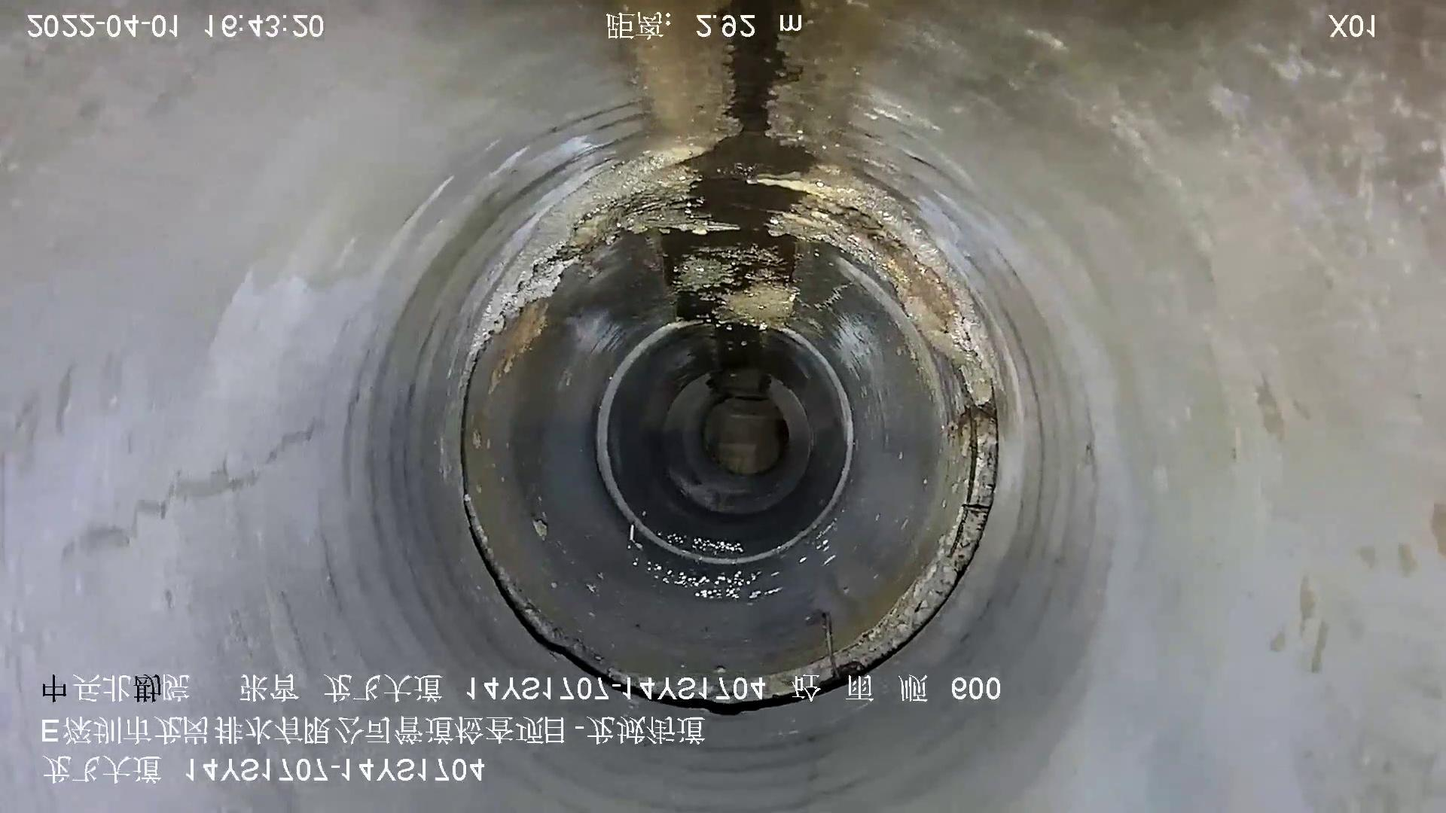CJ: (571, 37, 957, 336)
CKTJ: (496, 309, 998, 714), (596, 321, 854, 565)
